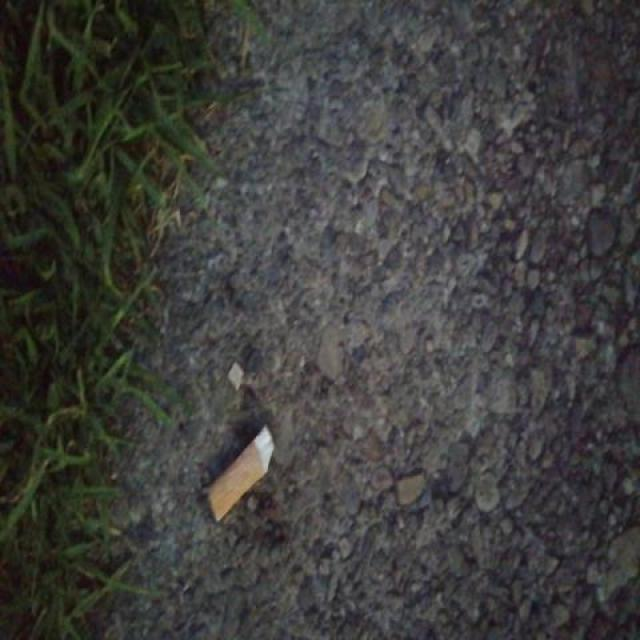non-organic waste: (199, 418, 278, 526)
